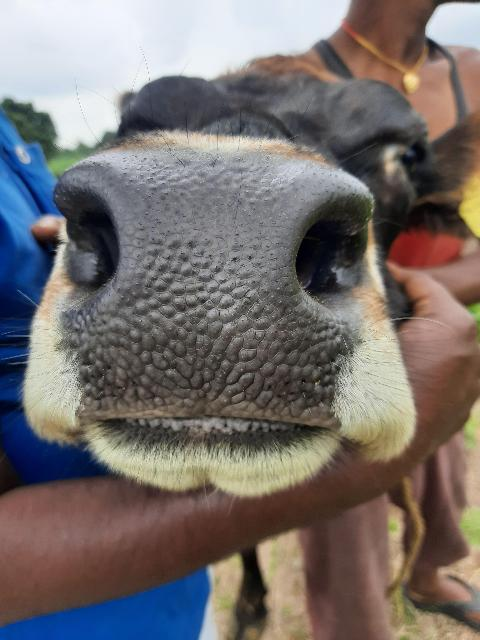Muzzle: (89, 158, 318, 432)
